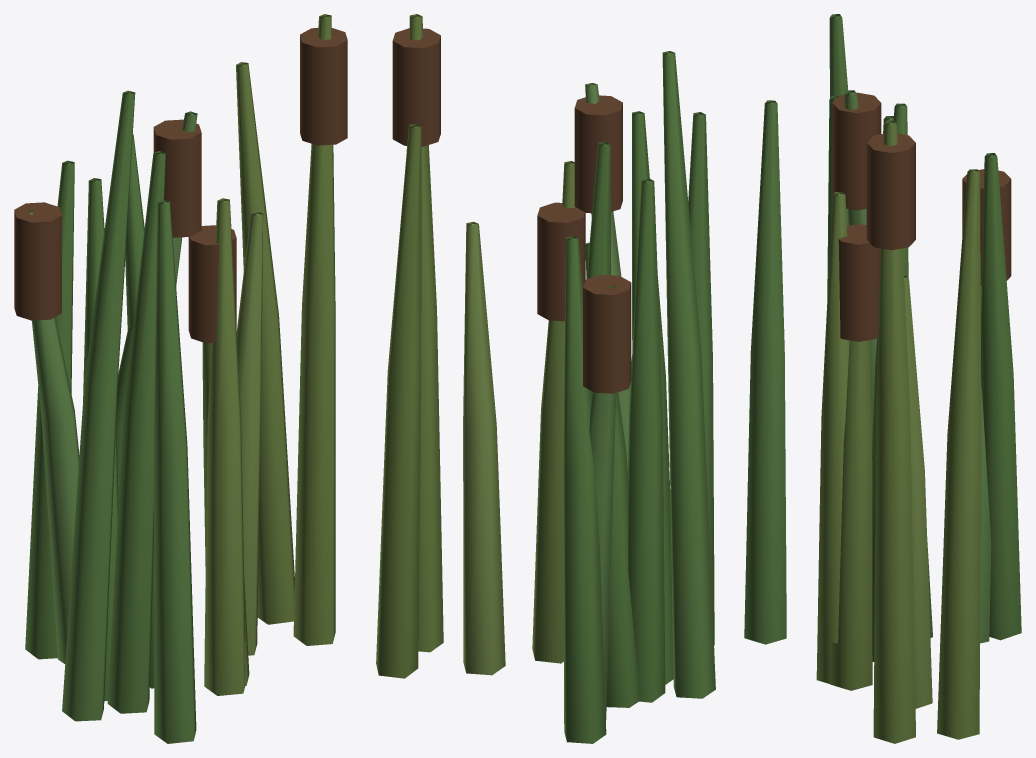
The model's file is reeds.glb.
3 renders of one model, left to right at view 1: azimuth 30°, elevation 25°; view 2: azimuth 150°, elevation 25°; view 3: azimuth 270°, elevation 25°, orthographic.
Parts seen in each view (by area): view 1: body; view 2: body; view 3: body.
Part boxes in pixels (x1,y1,x2,y2): body: [14, 14, 347, 743]; body: [376, 14, 715, 743]; body: [744, 14, 1021, 743].
Size of the model in its own units: 0.754 by 1.52 by 0.6206.
